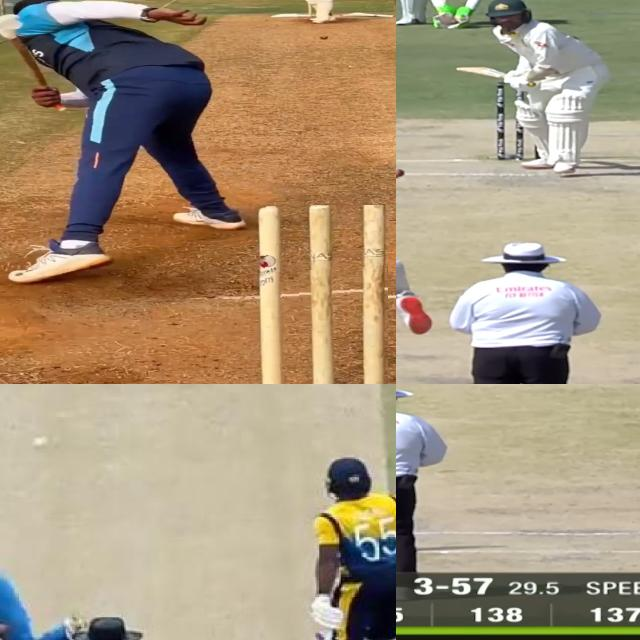Cricket ball: (33, 437, 51, 452), (396, 169, 405, 179), (320, 35, 328, 40)
Stumps: (256, 205, 389, 384)
